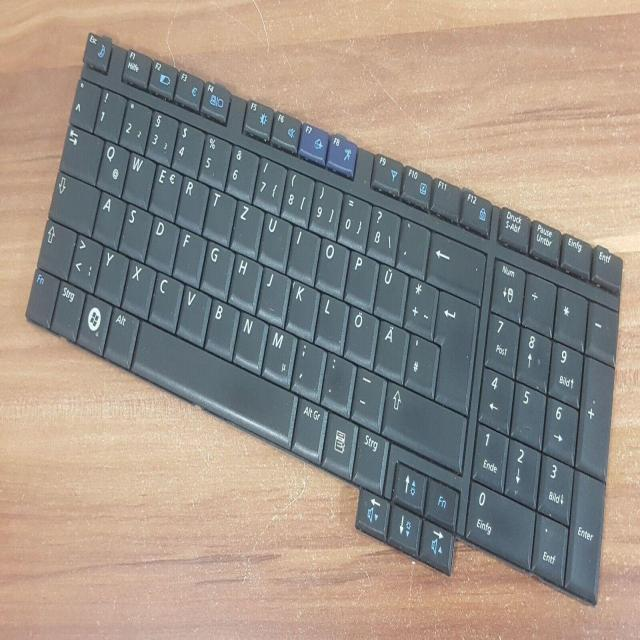0: (336, 189, 370, 247)
1: (93, 84, 124, 138)
2: (118, 97, 150, 150)
3: (144, 107, 176, 161)
4: (172, 118, 203, 173)
5: (197, 130, 230, 185)
6: (225, 142, 258, 197)
7: (253, 153, 286, 209)
8: (279, 166, 313, 222)
9: (308, 178, 341, 235)
a: (92, 190, 125, 244)
accent: (396, 213, 429, 273)
ae: (372, 318, 408, 378)
alt-left: (104, 304, 139, 366)
altgr-right: (291, 395, 327, 459)
b: (203, 295, 238, 355)
c: (147, 271, 182, 328)
caret: (68, 75, 99, 129)
comma: (290, 335, 325, 396)
d: (144, 214, 178, 270)
del: (425, 227, 485, 299)
e: (147, 162, 181, 217)
enter: (433, 288, 477, 414)
f: (172, 225, 205, 282)
g: (199, 239, 232, 295)
h: (227, 251, 262, 308)
hash: (403, 330, 438, 394)
i: (286, 222, 319, 278)
j: (256, 265, 289, 321)
k: (284, 277, 319, 335)
keyboard: (18, 23, 627, 620)
l: (313, 290, 347, 350)
less: (67, 231, 101, 288)
m: (260, 322, 295, 382)
minus: (349, 363, 385, 425)
n: (232, 309, 266, 368)
o: (313, 235, 348, 292)
oe: (343, 304, 377, 363)
p: (343, 247, 377, 306)
plus: (403, 273, 437, 334)
point: (319, 349, 354, 408)
q: (95, 140, 128, 193)
r: (174, 174, 208, 228)
s: (118, 202, 151, 258)
shift-left: (36, 218, 75, 277)
shift-lock: (48, 171, 99, 233)
shift-right: (382, 379, 467, 471)
space: (130, 316, 295, 444)
ss: (365, 201, 399, 260)
strg-left: (50, 279, 84, 337)
strg-right: (351, 424, 388, 489)
t: (202, 186, 235, 240)
tab: (58, 124, 102, 181)
u: (257, 209, 291, 266)
ue: (372, 260, 407, 321)
v: (176, 283, 210, 341)
w: (121, 150, 154, 204)
x: (121, 257, 154, 314)
y: (95, 245, 128, 301)
z: (229, 197, 263, 253)
